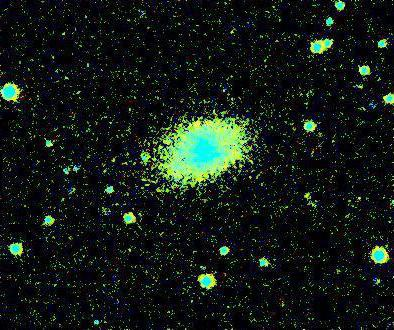star: (292, 181, 322, 211)
